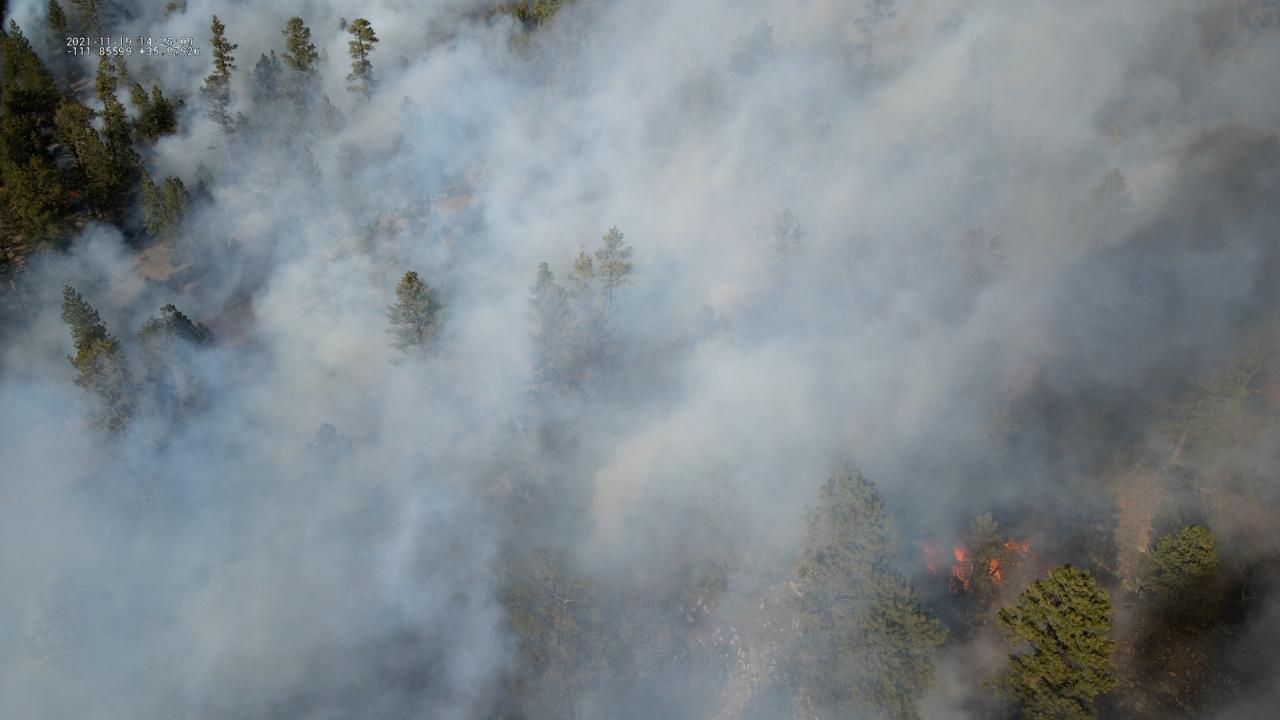fire: (910, 540, 975, 594), (987, 535, 1036, 587)
smoke: (0, 0, 1280, 720)
